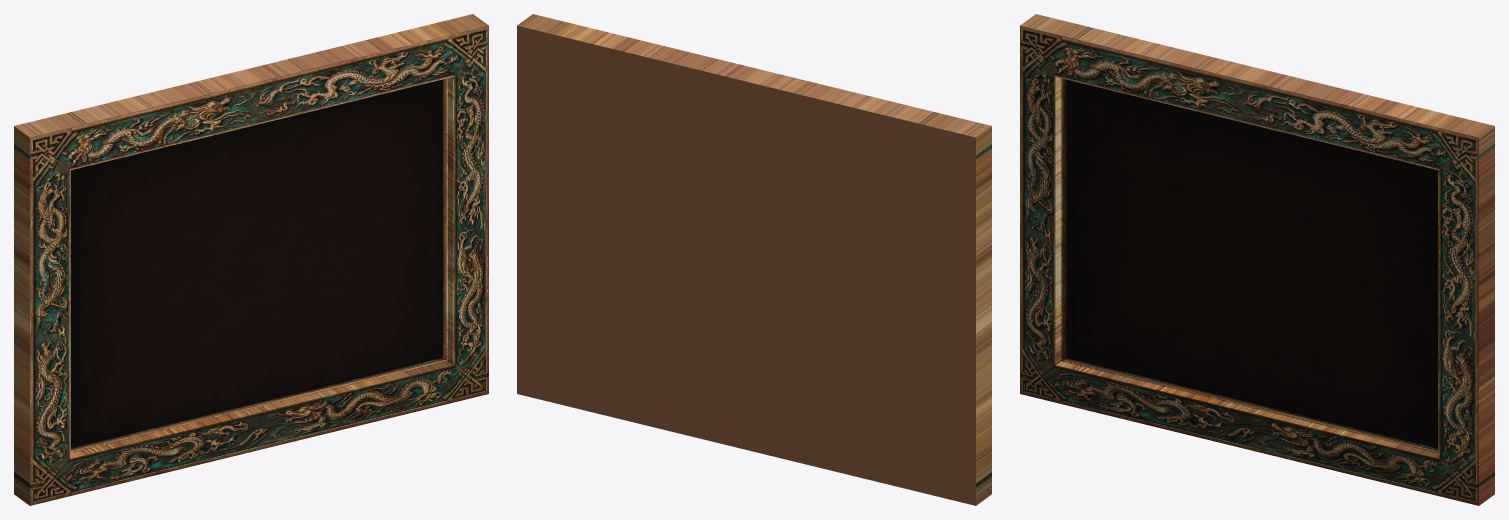
File: panel_result.glb
3 renders of one model, left to right at view 1: azimuth 30°, elevation 25°; view 2: azimuth 150°, elevation 25°; view 3: azimuth 330°, elevation 25°, orthographic.
Parts seen in each view (by area): view 1: panel_result; view 2: panel_result; view 3: panel_result.
Part boxes in pixels (<box>): panel_result: <box>14,14,488,505</box>; panel_result: <box>517,14,991,505</box>; panel_result: <box>1020,14,1494,505</box>.
Bounding box in the file's own units: 0.6 × 0.46 × 0.042.
1 material, 1 textured.
